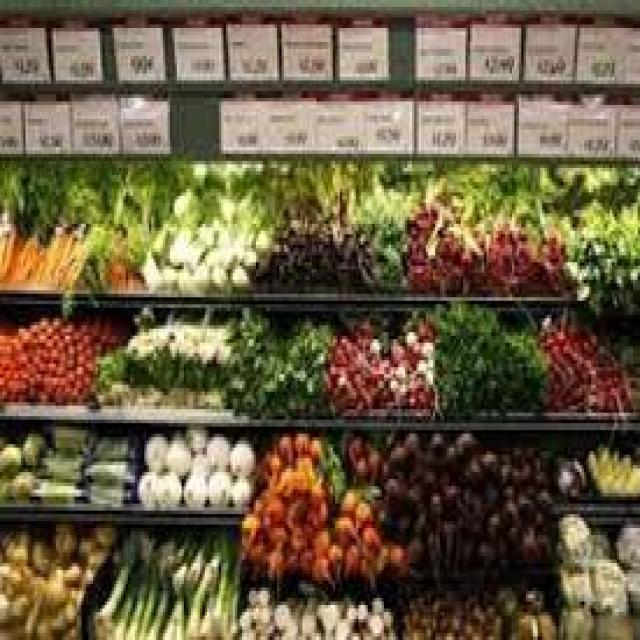biodegradable: (561, 161, 638, 308), (224, 304, 328, 409), (435, 304, 542, 406), (407, 164, 489, 287), (489, 157, 566, 287), (331, 311, 435, 406), (249, 210, 370, 283), (542, 318, 638, 409), (0, 311, 91, 399), (58, 161, 107, 308), (263, 158, 372, 221), (359, 158, 408, 291), (123, 301, 235, 357), (37, 157, 86, 280), (100, 158, 147, 284), (93, 339, 228, 381), (14, 157, 60, 280), (91, 528, 135, 637), (401, 591, 501, 637), (93, 374, 230, 406), (135, 161, 188, 234), (144, 539, 179, 637), (123, 528, 154, 637), (0, 154, 26, 273), (584, 441, 638, 497), (184, 553, 219, 637), (216, 521, 240, 637), (584, 553, 624, 609), (161, 549, 186, 637), (91, 308, 135, 350), (554, 556, 591, 605), (186, 179, 217, 235), (552, 448, 587, 497), (198, 532, 214, 637), (321, 437, 345, 500), (554, 511, 589, 553), (240, 185, 275, 224), (81, 458, 128, 486), (170, 528, 191, 588), (463, 483, 487, 535), (594, 609, 638, 637), (84, 476, 128, 504), (228, 430, 254, 476), (559, 605, 596, 637), (377, 469, 405, 511), (38, 448, 75, 479), (198, 157, 233, 189), (26, 479, 79, 500), (612, 521, 638, 563), (205, 465, 233, 504), (256, 483, 282, 525), (140, 430, 165, 472), (86, 430, 128, 455), (21, 588, 42, 637), (9, 465, 35, 504), (293, 458, 319, 497), (235, 507, 261, 546), (423, 479, 447, 521), (507, 525, 533, 563), (49, 525, 77, 560), (40, 570, 65, 609), (203, 430, 228, 469), (163, 430, 186, 472), (140, 248, 161, 294), (205, 252, 230, 290), (184, 532, 205, 577), (151, 469, 177, 504), (28, 535, 51, 574), (0, 528, 28, 560), (19, 595, 40, 637), (366, 437, 387, 479), (484, 507, 505, 549), (317, 598, 342, 633), (454, 427, 479, 462), (312, 553, 335, 591), (421, 434, 449, 465), (507, 605, 533, 637), (428, 525, 442, 584), (463, 444, 484, 483), (533, 602, 556, 637), (256, 444, 279, 479), (275, 462, 298, 497), (263, 539, 282, 581), (344, 434, 363, 476), (228, 252, 247, 294), (482, 448, 503, 486), (442, 483, 463, 521), (407, 518, 426, 560), (0, 560, 28, 588), (177, 266, 205, 294), (193, 210, 221, 238), (231, 161, 259, 189), (621, 563, 638, 609), (342, 535, 359, 581), (207, 234, 231, 266), (528, 500, 552, 532), (584, 525, 608, 556), (181, 469, 205, 500), (533, 479, 552, 518), (228, 469, 249, 504), (44, 423, 79, 444), (17, 427, 38, 462), (387, 434, 408, 469), (533, 451, 554, 486), (386, 507, 412, 535), (216, 189, 235, 227), (375, 532, 391, 577), (463, 535, 491, 560), (72, 532, 96, 560), (184, 423, 205, 455), (307, 518, 331, 546), (405, 472, 421, 514), (135, 469, 154, 504), (0, 437, 19, 472), (158, 256, 177, 291), (335, 511, 356, 542), (228, 224, 249, 255), (444, 525, 461, 563), (519, 581, 542, 609), (491, 584, 514, 612), (389, 535, 407, 570), (531, 525, 549, 560), (56, 556, 81, 581), (0, 584, 16, 622), (256, 217, 272, 255), (405, 427, 424, 458), (303, 493, 324, 521), (284, 521, 305, 549), (326, 542, 344, 574), (270, 595, 286, 630), (286, 493, 303, 525), (186, 448, 205, 476), (500, 497, 519, 525), (521, 441, 538, 472), (289, 427, 307, 455), (354, 497, 372, 525), (512, 476, 533, 500), (424, 469, 452, 486), (58, 598, 77, 623), (279, 612, 298, 637), (279, 549, 298, 574), (363, 521, 377, 553), (242, 235, 258, 263), (296, 612, 317, 633), (72, 563, 96, 581), (88, 525, 112, 542), (63, 577, 79, 602), (33, 612, 51, 633), (338, 490, 356, 511), (170, 238, 188, 259), (307, 430, 321, 455), (419, 332, 433, 357), (193, 255, 207, 280), (237, 619, 256, 637), (256, 619, 275, 637), (368, 609, 382, 633), (331, 609, 345, 633), (338, 595, 352, 619), (298, 591, 314, 612), (249, 539, 265, 560), (300, 546, 312, 574), (189, 231, 203, 255), (277, 430, 289, 455), (505, 444, 517, 469), (361, 556, 372, 581), (84, 546, 102, 560), (244, 584, 256, 605), (172, 217, 189, 231), (254, 605, 270, 619), (370, 591, 382, 609), (0, 476, 12, 493), (400, 322, 412, 339), (356, 598, 365, 619), (410, 339, 419, 357), (237, 605, 247, 619), (258, 584, 268, 595), (382, 609, 389, 623), (349, 630, 358, 637)
